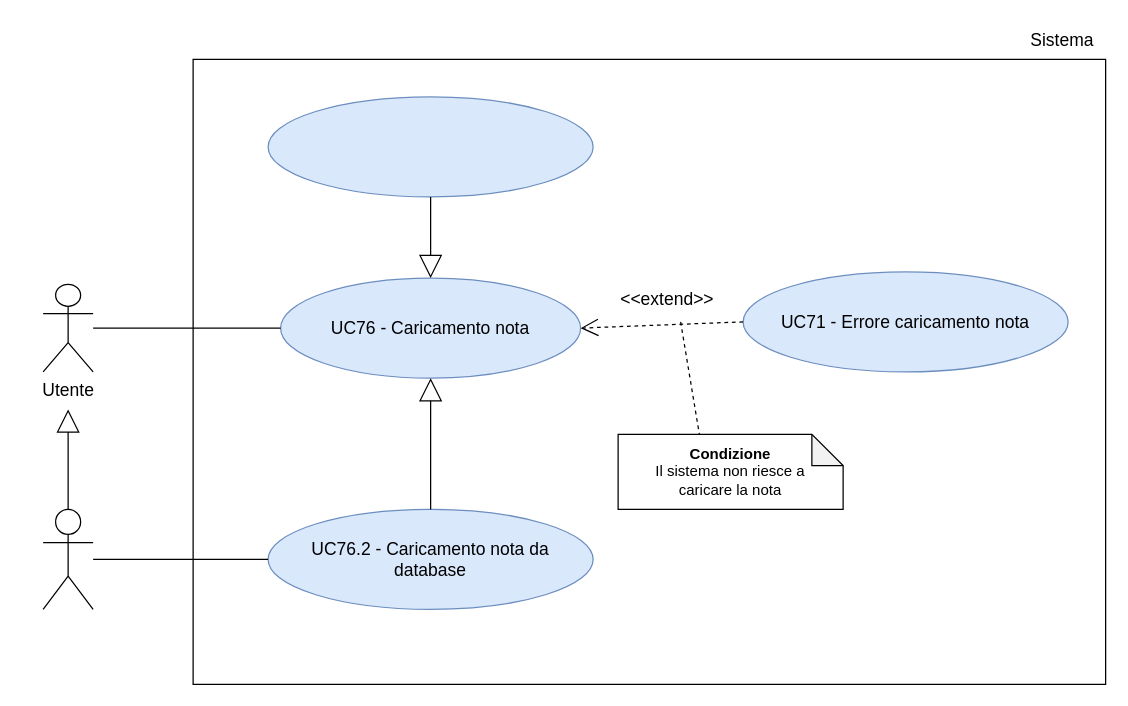
The diagram is 1128 pixels wide and 706 high, and some of its shapes have lost their labels. The shapes that lost their labels are listed below. From the top down, each one's centre as x and y in pixels, then its label:
At (430,146): "UC76.1 - Caricamento nota da File System".
At (67,558): "Utente riconosciuto".
